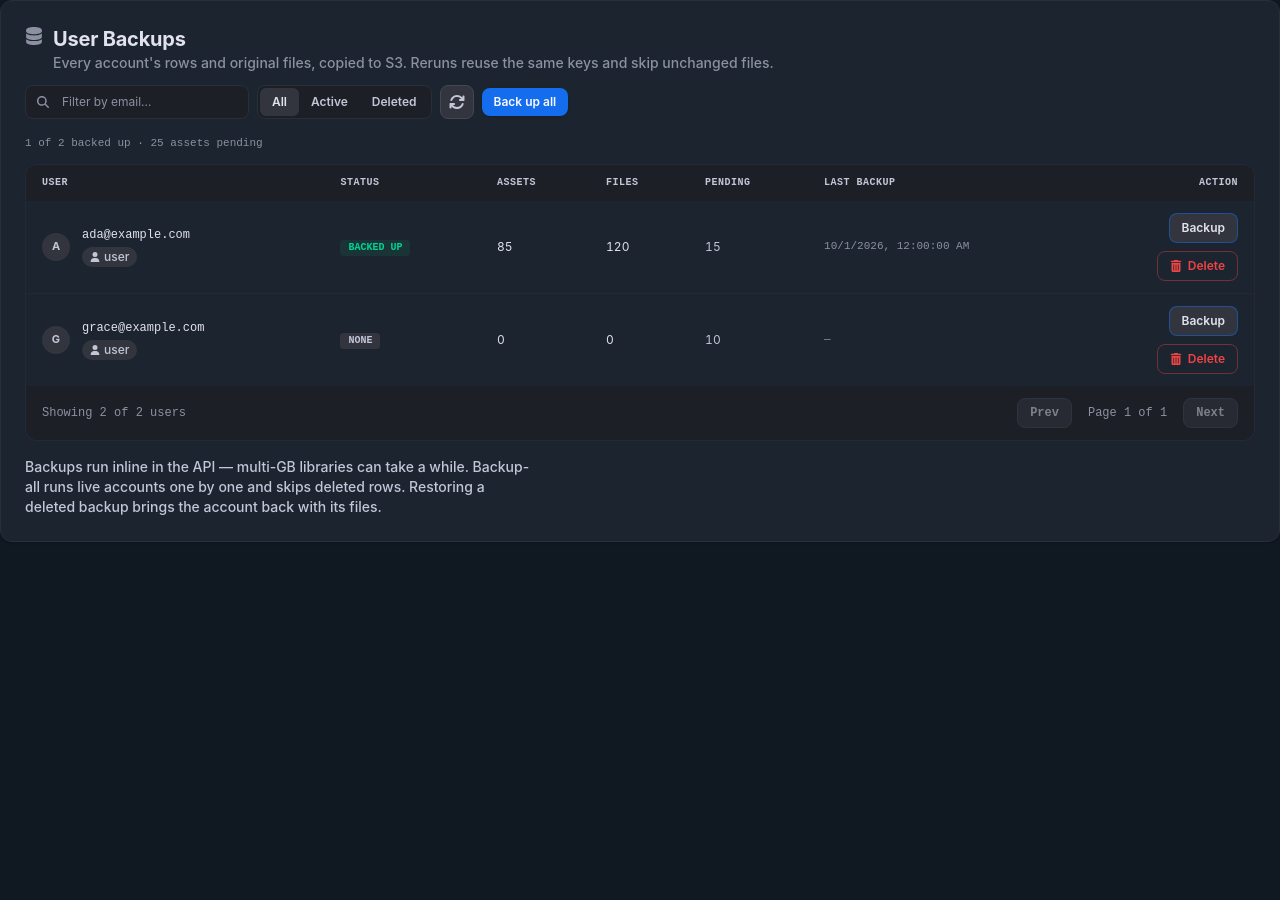
Test: BackupSection table › surfaces a per-row failure as an error toast without axios verbatim
Expected: the text "ada@example.com" is shown, top-left (82, 226), bottom-right (190, 242)
Expected: the text "grace@example.com" is shown, top-left (82, 320), bottom-right (204, 336)
Click the button with aria-label "Back up ada@example.com". click: coordinates (1203, 228)
box: top-left (1168, 212), bottom-right (1238, 242)
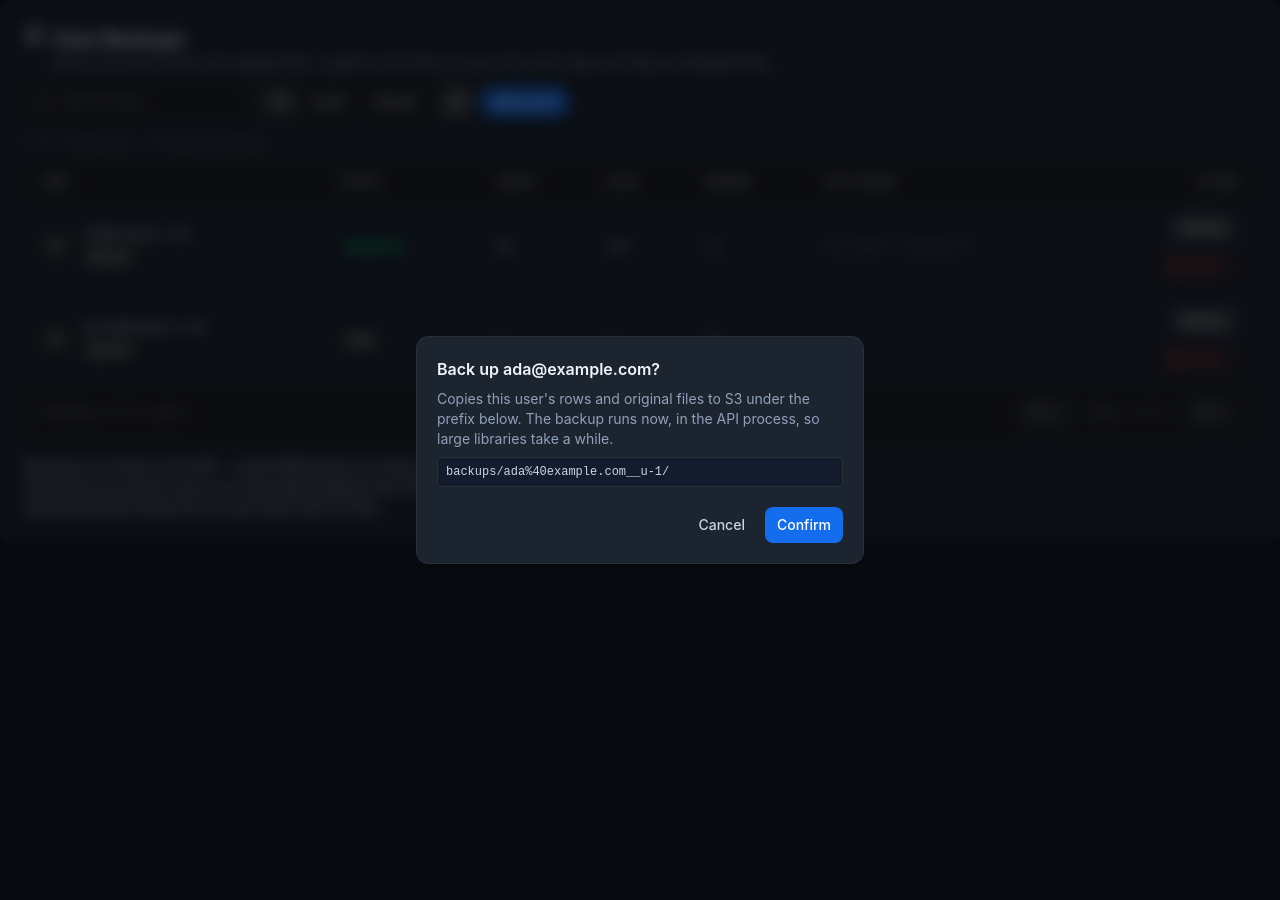
Click the button "Confirm". click: coordinates (804, 525)
box: top-left (765, 507), bottom-right (843, 543)
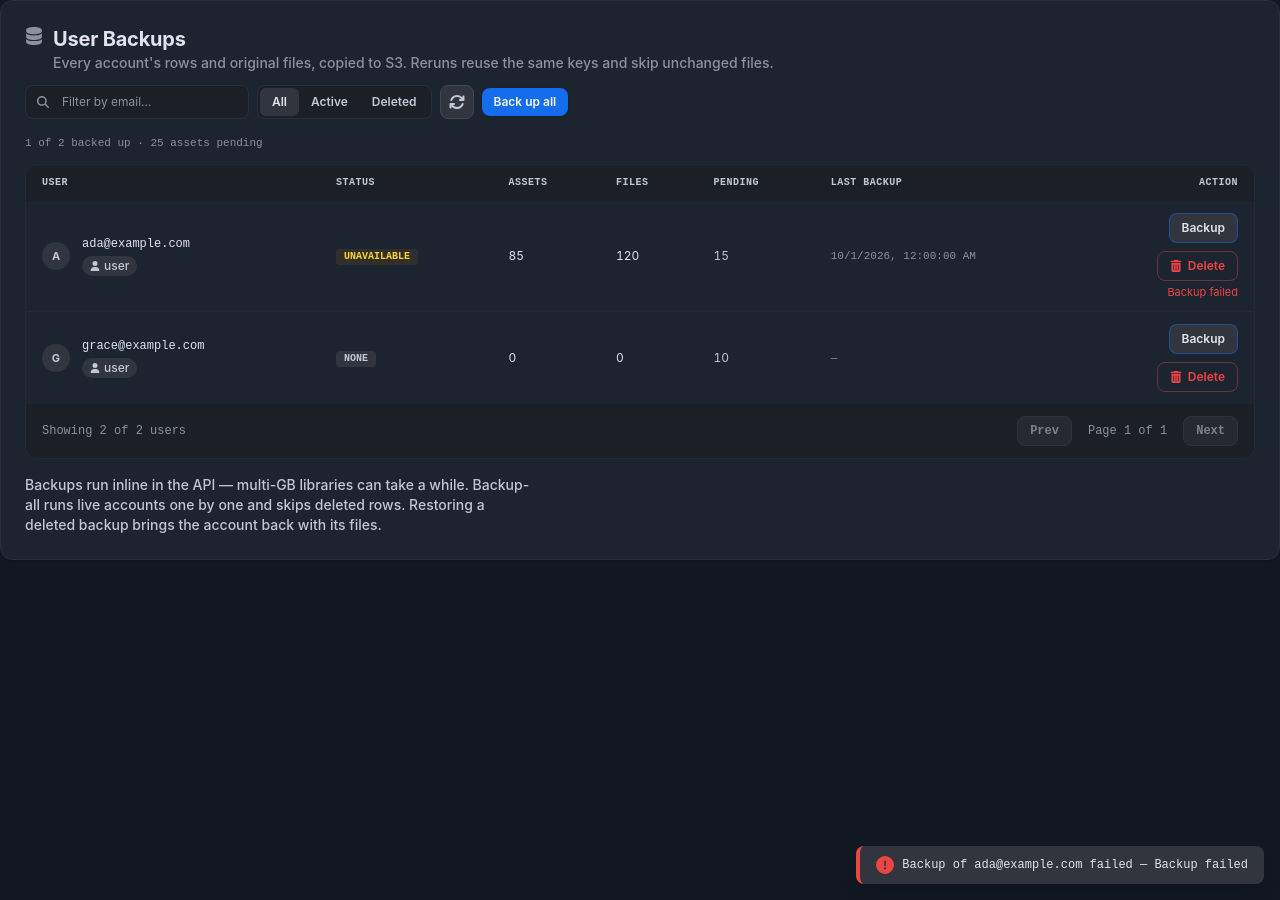
Expected: the button with aria-label "Back up ada@example.com" is enabled, top-left (1168, 212), bottom-right (1238, 242)
Expected: the text "Backup of ada@example.com failed — Backup failed" is shown, top-left (902, 857), bottom-right (1248, 873)
